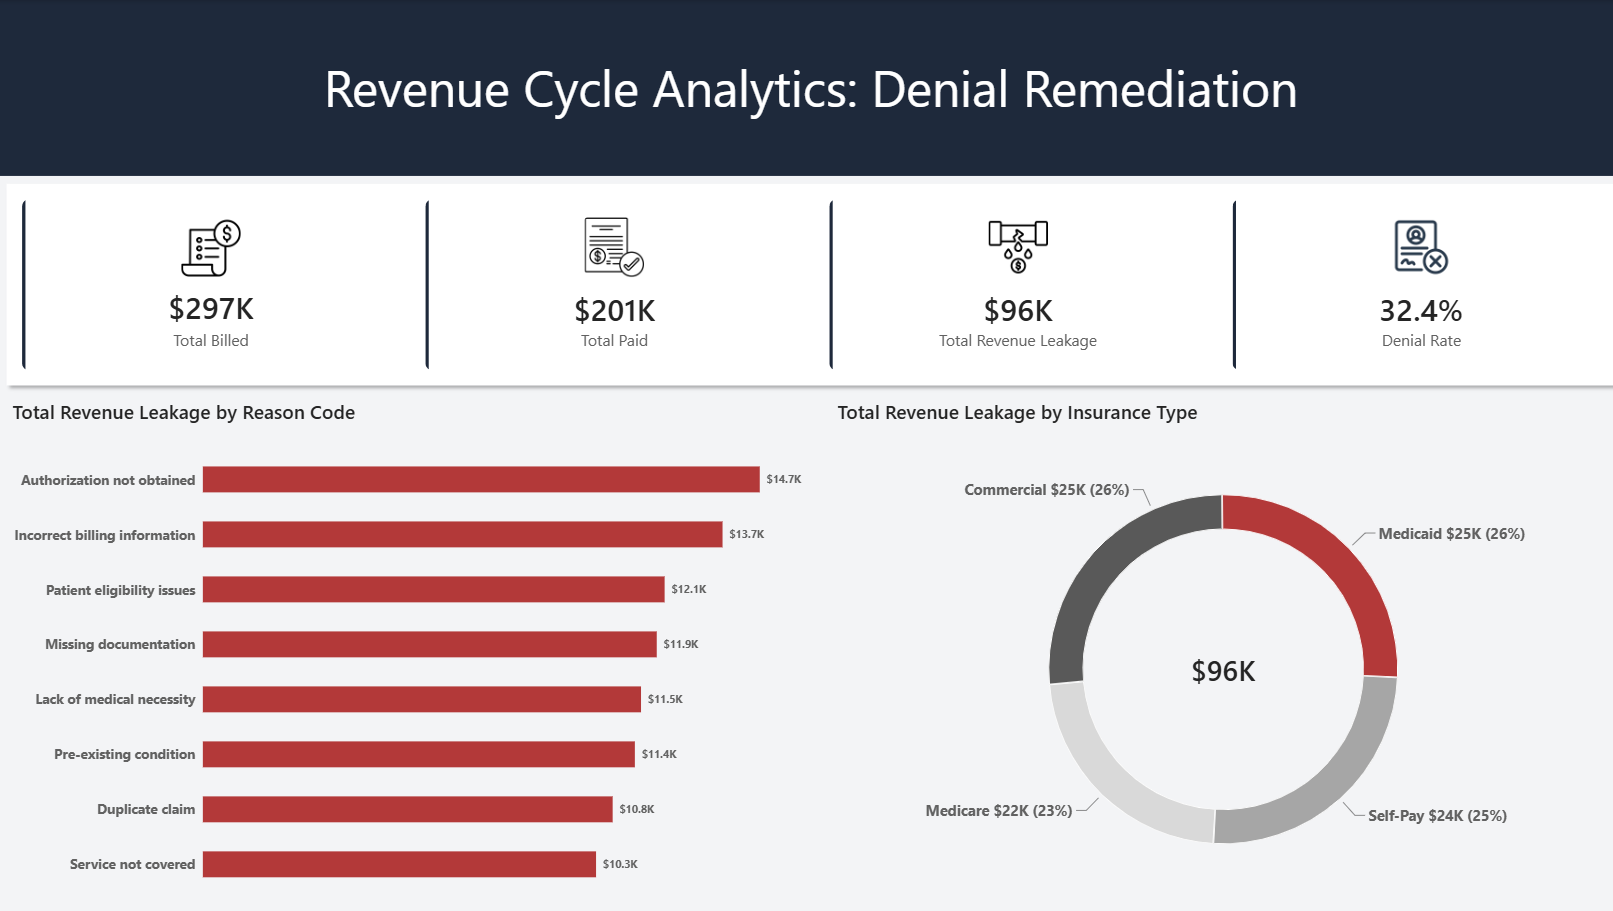

The page's visual inventory and layout, read from the dashboard file:
{"tool":"powerbi","page":{"name":"Revenue Cycle Analytics","canvas":[1920,1080],"ordinal":0},"visuals":[{"type":"shape","box":[0,0,1920,208],"z":0},{"type":"textbox","box":[0,64,1920,96],"z":1000},{"type":"shape","box":[0,208,1920,256],"z":2000},{"type":"cardVisual","fields":{"Data":["Fact_Claims.Total Billed","Fact_Claims.Total Paid","Fact_Claims.Total Revenue Leakage","Fact_Claims.Denial Rate"]},"box":[16,224,1904,224],"z":3000},{"type":"clusteredBarChart","title":"Total Revenue Leakage by Reason Code","fields":{"Category":["Dim_Denial_Context.Reason code"],"Y":["Fact_Claims.Total Revenue Leakage"]},"box":[0,456,976,624],"z":4000},{"type":"donutChart","fields":{"Y":["Fact_Claims.Total Revenue Leakage"],"Category":["Dim_Payer.Insurance Type"]},"box":[976,456,944,624],"z":5000}]}

Visuals, with their boxes in screenshot pixels (x1, y1, x2, y2), scaled from the page's 1920x1080 canvas onto the 1613x911 screenshot:
shape: [x1=0, y1=0, x2=1612, y2=175]
textbox: [x1=0, y1=54, x2=1612, y2=135]
shape: [x1=0, y1=175, x2=1612, y2=391]
cardVisual - Fact_Claims.Total Billed x Fact_Claims.Total Paid: [x1=13, y1=189, x2=1612, y2=378]
"Total Revenue Leakage by Reason Code" clusteredBarChart: [x1=0, y1=385, x2=820, y2=910]
donutChart - Fact_Claims.Total Revenue Leakage x Dim_Payer.Insurance Type: [x1=820, y1=385, x2=1612, y2=910]
